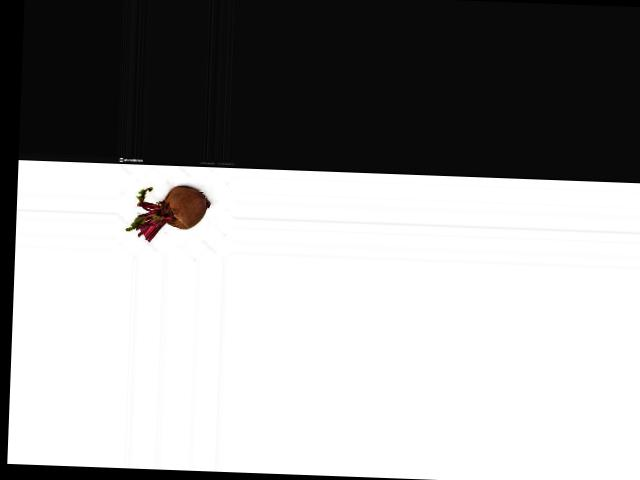beet: (125, 183, 211, 244)
